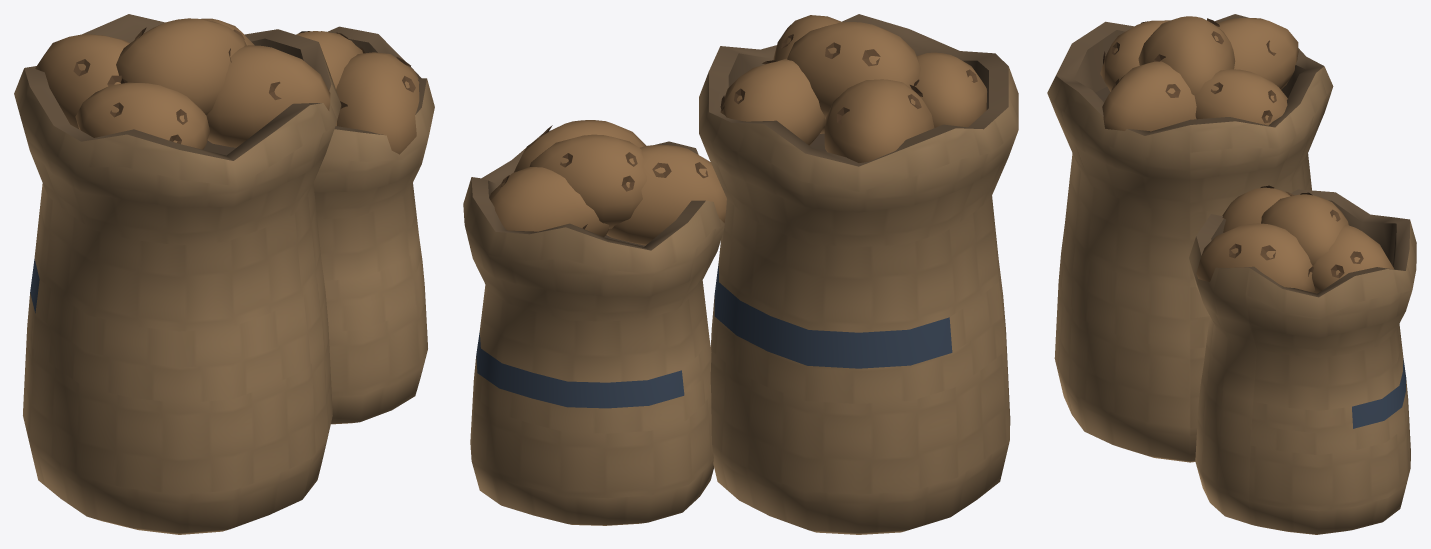
The model's file is cachelos_storage.glb.
3 renders of one model, left to right at view 1: azimuth 30°, elevation 25°; view 2: azimuth 150°, elevation 25°; view 3: azimuth 270°, elevation 25°, orthographic. The views are drawn at different scales.
Visible parts, largest first — view 1: sacks, potatoes; view 2: sacks, potatoes; view 3: sacks, potatoes.
Part boxes in pixels (bbox=[...]): sacks: bbox=[14, 14, 434, 534]; potatoes: bbox=[35, 18, 419, 154]; sacks: bbox=[463, 14, 1018, 534]; potatoes: bbox=[489, 15, 986, 245]; sacks: bbox=[1047, 14, 1416, 534]; potatoes: bbox=[1100, 16, 1393, 293].
Size of the model in its own units: 0.6604 by 0.6465 by 0.5494.
Materials: 4 (3 with a texture image).
